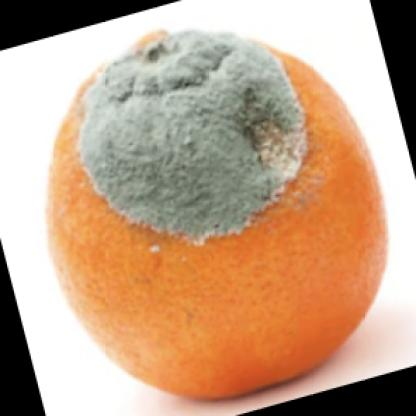rotten: (52, 33, 389, 401)
